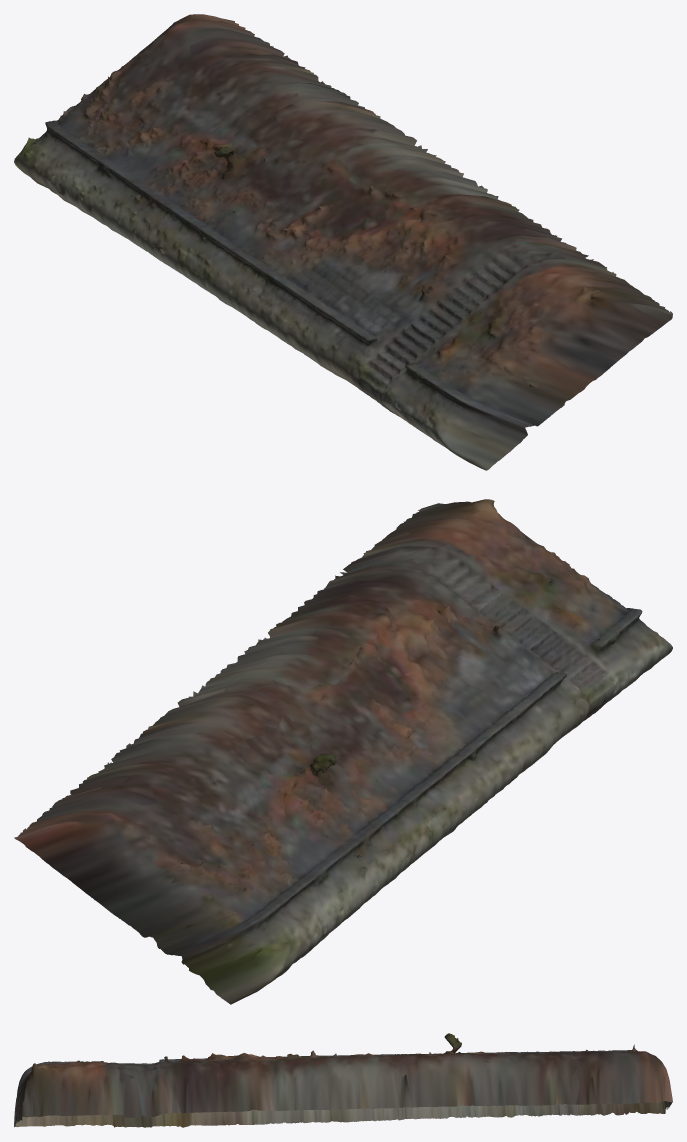
The model's file is run4_p3_c6.glb.
The picture shows the model from 3 angles, top to bottom: view 1: azimuth 30°, elevation 25°; view 2: azimuth 150°, elevation 25°; view 3: azimuth 270°, elevation 25°; orthographic projection. The views are drawn at different scales.
Parts seen in each view (by area): view 1: run4_p3_straight_c6; view 2: run4_p3_straight_c6; view 3: run4_p3_straight_c6.
Part boxes in pixels (<box>): run4_p3_straight_c6: <box>14,14,672,470</box>; run4_p3_straight_c6: <box>14,499,672,1004</box>; run4_p3_straight_c6: <box>14,1033,672,1127</box>.
Bounding box in the file's own units: 7.53 × 3.8 × 20.2.
1 material, 1 textured.
